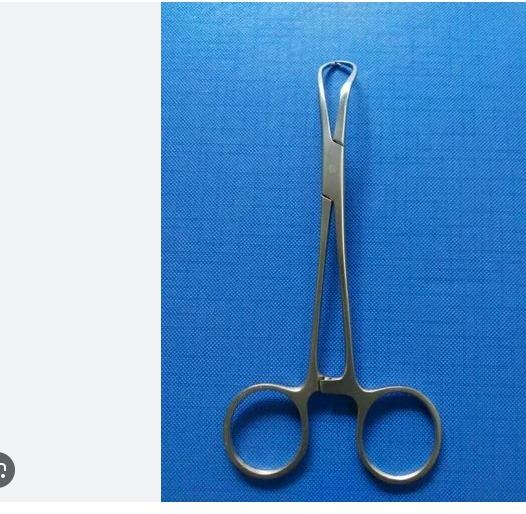Backhaus Towel Clamp: (210, 51, 446, 485)
